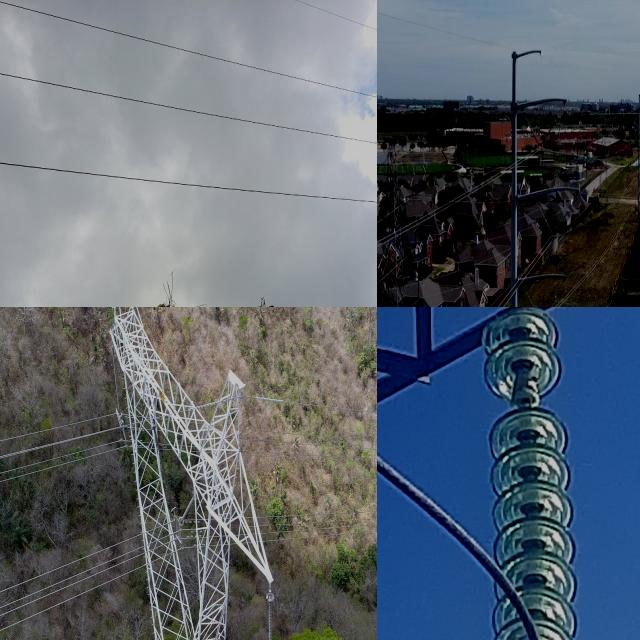杆塔: (104, 307, 283, 640), (377, 130, 422, 307)
正常绝缘子: (472, 307, 588, 640), (110, 342, 124, 421), (262, 577, 278, 640), (538, 110, 561, 149), (535, 200, 556, 237), (522, 111, 541, 147), (551, 207, 571, 240), (523, 286, 537, 307), (545, 290, 560, 307)
电缆破损: (146, 271, 292, 307)
绝缘子破损: (510, 380, 541, 407)
